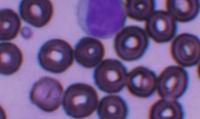L: (78, 1, 126, 38)
